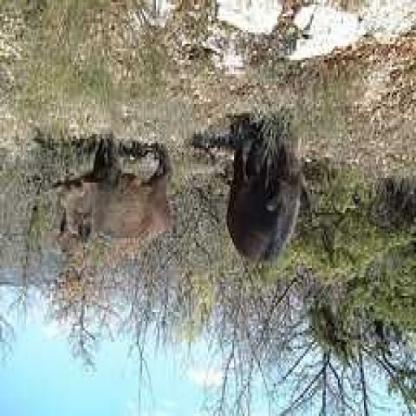boar: (210, 92, 343, 284), (18, 136, 197, 264)
